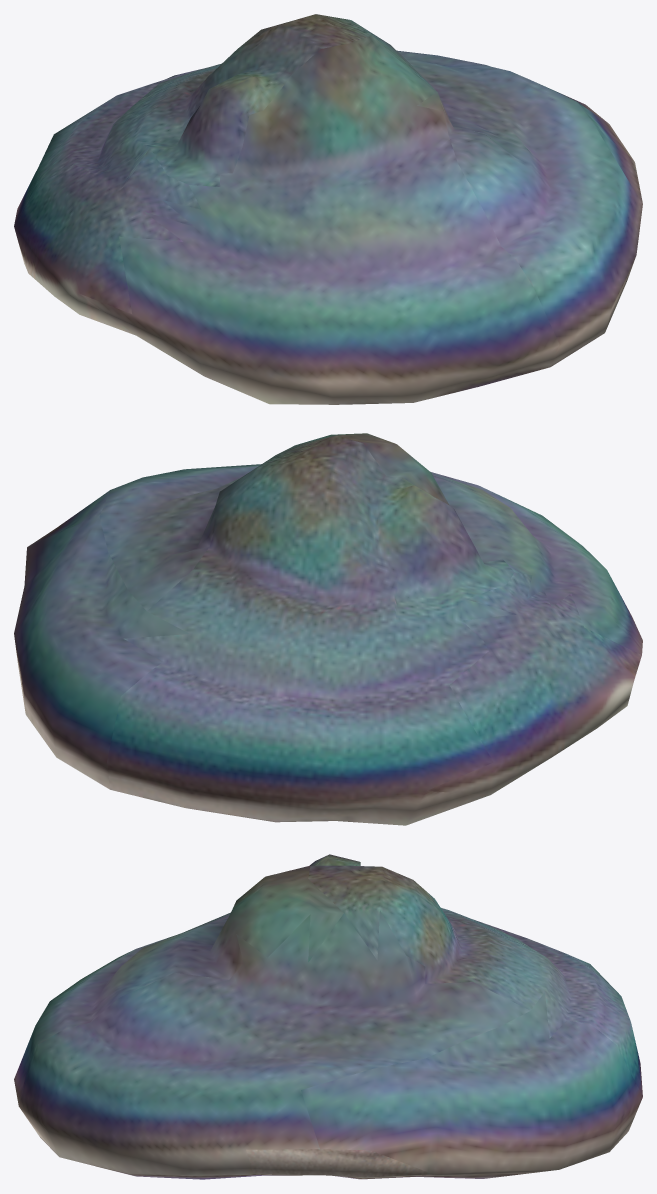
File: fungus-blue-saucer.gltf
The picture shows the model from 3 angles, top to bottom: view 1: azimuth 30°, elevation 25°; view 2: azimuth 150°, elevation 25°; view 3: azimuth 270°, elevation 25°; orthographic projection. The views are drawn at different scales.
Parts seen in each view (by area): view 1: fungus-blue-saucer; view 2: fungus-blue-saucer; view 3: fungus-blue-saucer.
Part boxes in pixels (x1=…): fungus-blue-saucer: x1=14, y1=14, x2=642, y2=404; fungus-blue-saucer: x1=14, y1=433, x2=642, y2=825; fungus-blue-saucer: x1=14, y1=854, x2=642, y2=1179.
Size of the model in its own units: 0.625 by 0.3101 by 0.6421.
Materials: 1 (1 with a texture image).
